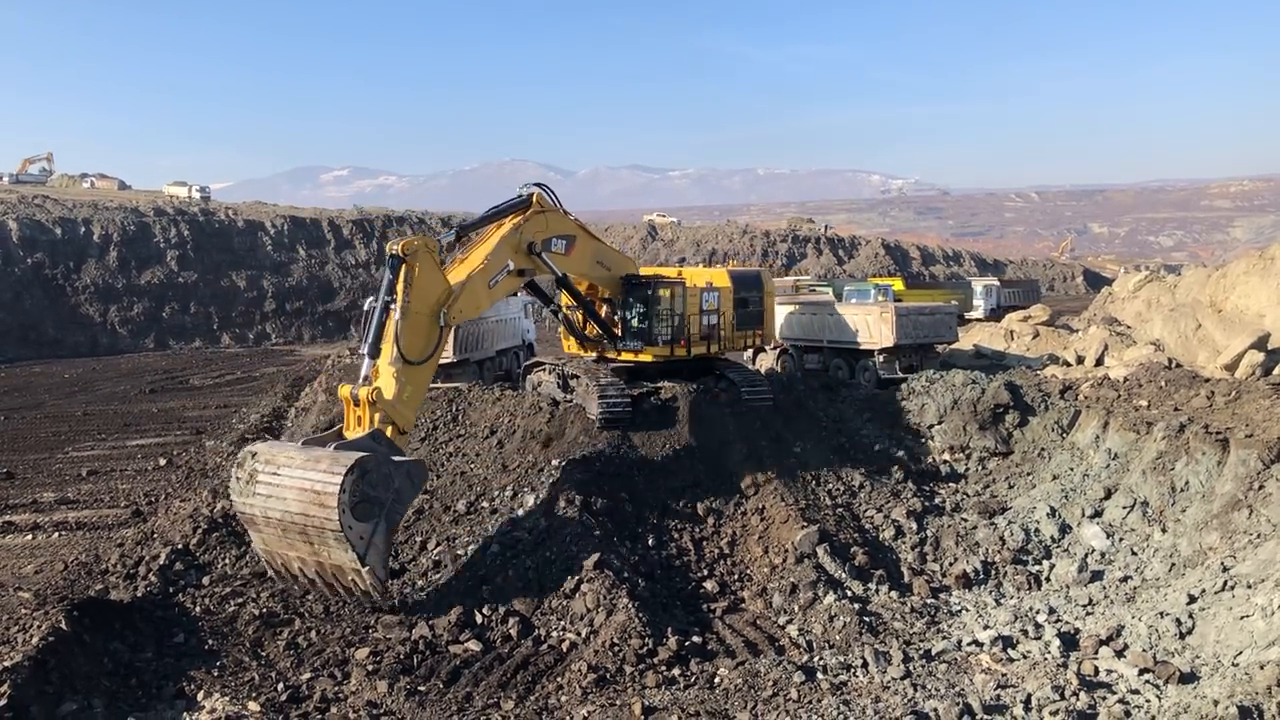empty: (224, 437, 429, 605)
